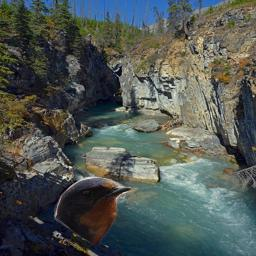Swallow: (54, 176, 134, 246)
